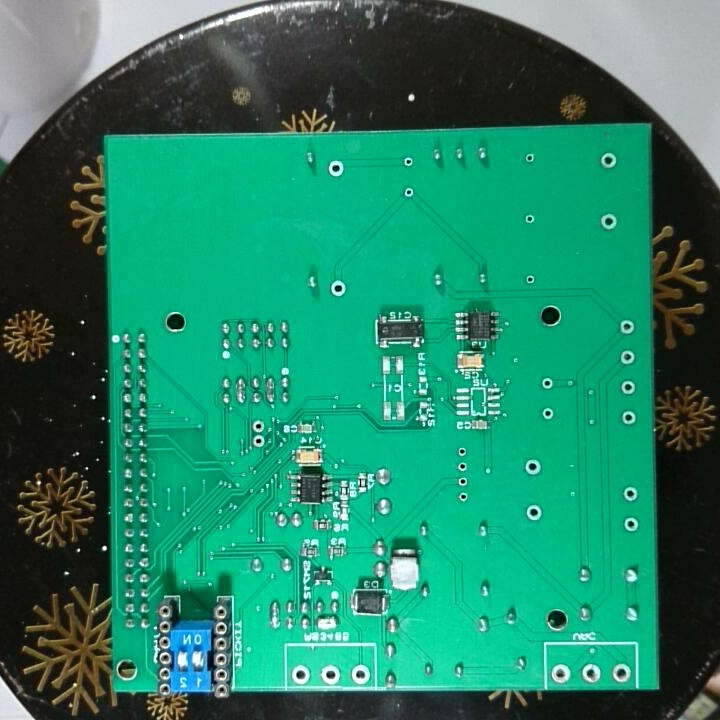F: (289, 662, 312, 686), (597, 149, 620, 172), (349, 662, 371, 686), (610, 660, 632, 684), (597, 209, 619, 232), (328, 276, 349, 298), (580, 662, 602, 683), (319, 663, 342, 683), (522, 457, 543, 478), (617, 346, 637, 368), (551, 662, 571, 684), (325, 158, 345, 178), (617, 318, 637, 338), (525, 503, 545, 523), (621, 483, 639, 505), (618, 408, 638, 427), (622, 515, 642, 534), (249, 416, 269, 435), (618, 377, 634, 398), (401, 184, 418, 202), (249, 433, 268, 449), (454, 473, 472, 489), (539, 375, 555, 392), (399, 154, 416, 169), (522, 149, 537, 166), (455, 443, 470, 460), (522, 210, 538, 225), (539, 406, 555, 421), (454, 460, 471, 474), (456, 489, 471, 504), (523, 272, 538, 286)
P: (268, 596, 282, 633), (262, 372, 277, 406), (313, 614, 342, 631), (234, 375, 247, 404)
